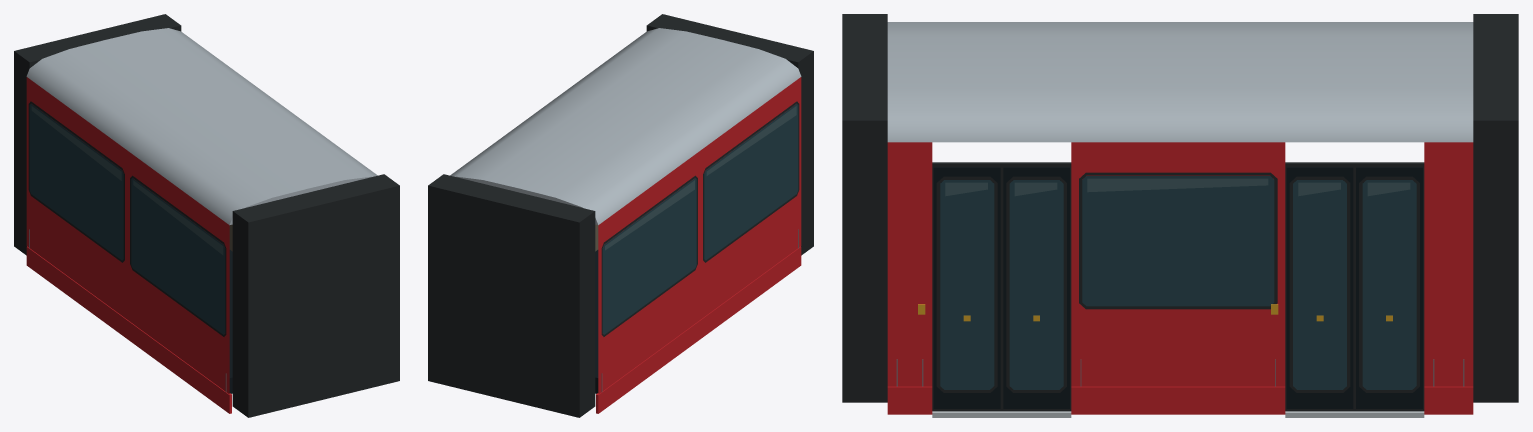
Rendered from 14t-b-viewer.glb.
The picture shows the model from 3 angles, left to right: view 1: azimuth 30°, elevation 25°; view 2: azimuth 150°, elevation 25°; view 3: azimuth 270°, elevation 25°; orthographic projection. The views are drawn at different scales.
Visible parts, largest first — view 1: 14t-b; view 2: 14t-b; view 3: 14t-b, 14t-b-door-1-1.670-1, 14t-b-door-1--1.630-1, 14t-b-door-1-1.670-0, 14t-b-door-1--1.630-0.
Boxes of the visible parts, x1,y1,x2,y2 form: 14t-b: (14, 14, 399, 417); 14t-b: (428, 14, 813, 417); 14t-b: (842, 14, 1518, 417); 14t-b-door-1-1.670-1: (933, 167, 1000, 408); 14t-b-door-1--1.630-1: (1286, 167, 1353, 408); 14t-b-door-1-1.670-0: (1003, 167, 1069, 408); 14t-b-door-1--1.630-0: (1356, 167, 1422, 408).
Size of the model in its own units: 2.56 by 3.07 by 6.32.
